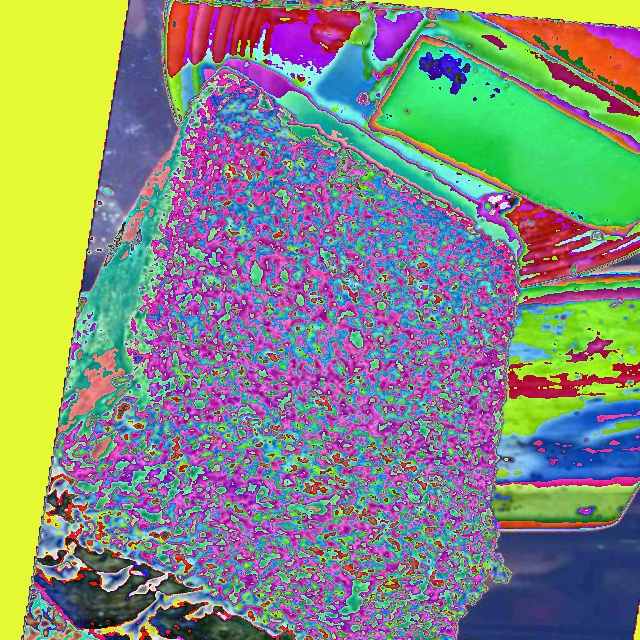background: (32, 72, 521, 639), (283, 8, 639, 237)
